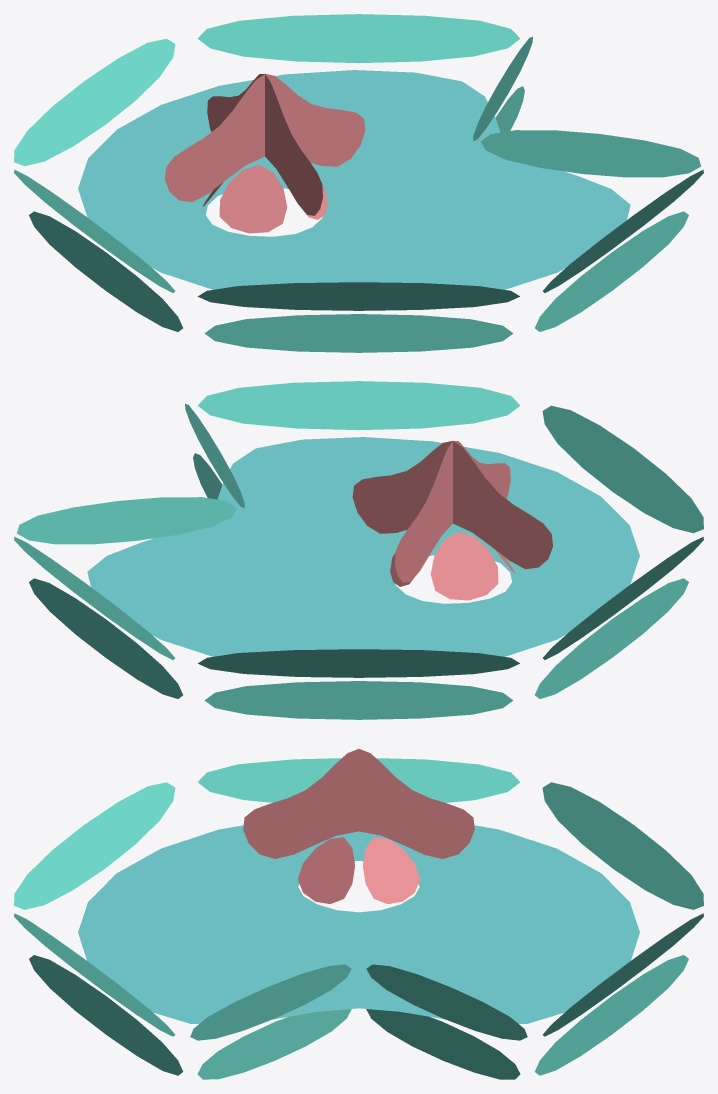
The model's file is lily_large.glb.
3 renders of one model, top to bottom at view 1: azimuth 30°, elevation 25°; view 2: azimuth 150°, elevation 25°; view 3: azimuth 270°, elevation 25°, orthographic.
Parts seen in each view (by area): view 1: lily_large; view 2: lily_large; view 3: lily_large.
Part boxes in pixels (x1,y1,x2,y2): lily_large: [14, 14, 703, 352]; lily_large: [14, 381, 703, 719]; lily_large: [14, 749, 703, 1079].
Size of the model in its own units: 0.2626 by 0.085 by 0.2947.
